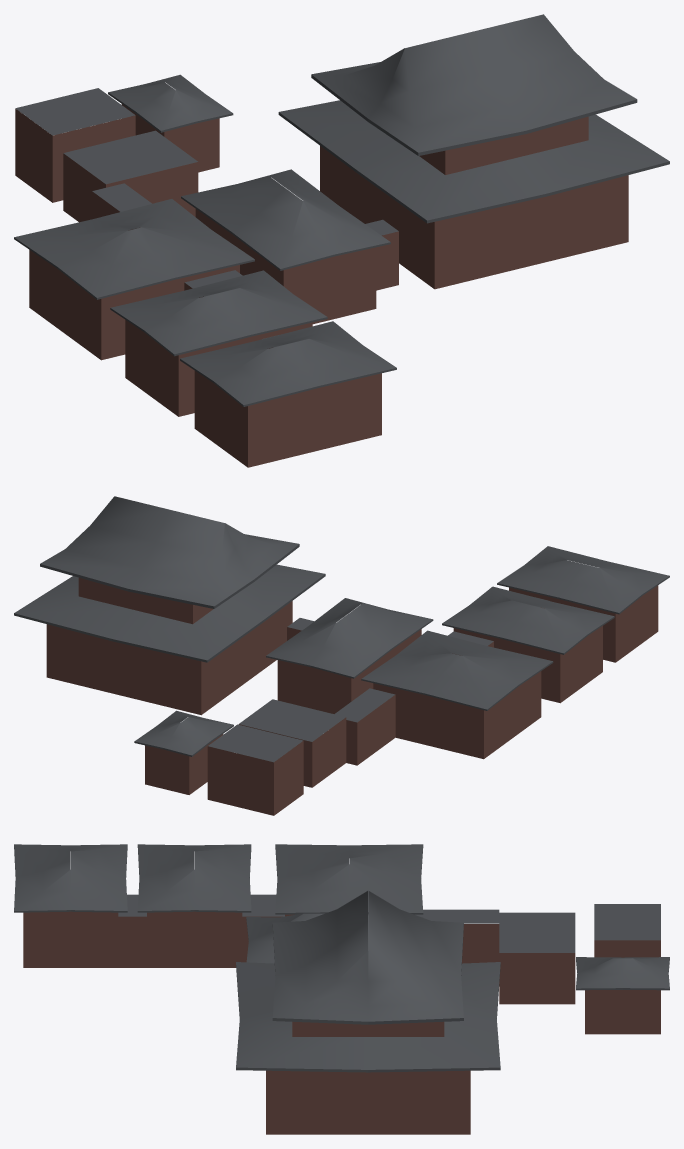
File: zojoji_daiden_far.glb
The picture shows the model from 3 angles, top to bottom: view 1: azimuth 30°, elevation 25°; view 2: azimuth 150°, elevation 25°; view 3: azimuth 270°, elevation 25°; orthographic projection. The views are drawn at different scales.
Visible parts, largest first — view 1: Daiden_Far; view 2: Daiden_Far; view 3: Daiden_Far.
Boxes of the visible parts, x1,y1,x2,y2 form: Daiden_Far: (14,14,669,467); Daiden_Far: (14,496,669,815); Daiden_Far: (14,844,669,1134).
Size of the model in its own units: 119 by 39.8 by 138.
